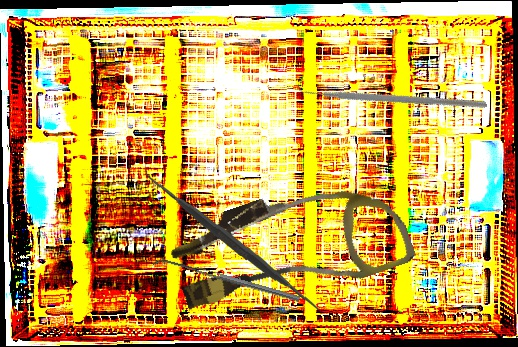Cannula: (162, 157, 418, 335)
Chopper: (293, 4, 488, 181)
Spatula Surgical: (145, 154, 320, 329), (152, 255, 301, 307)
